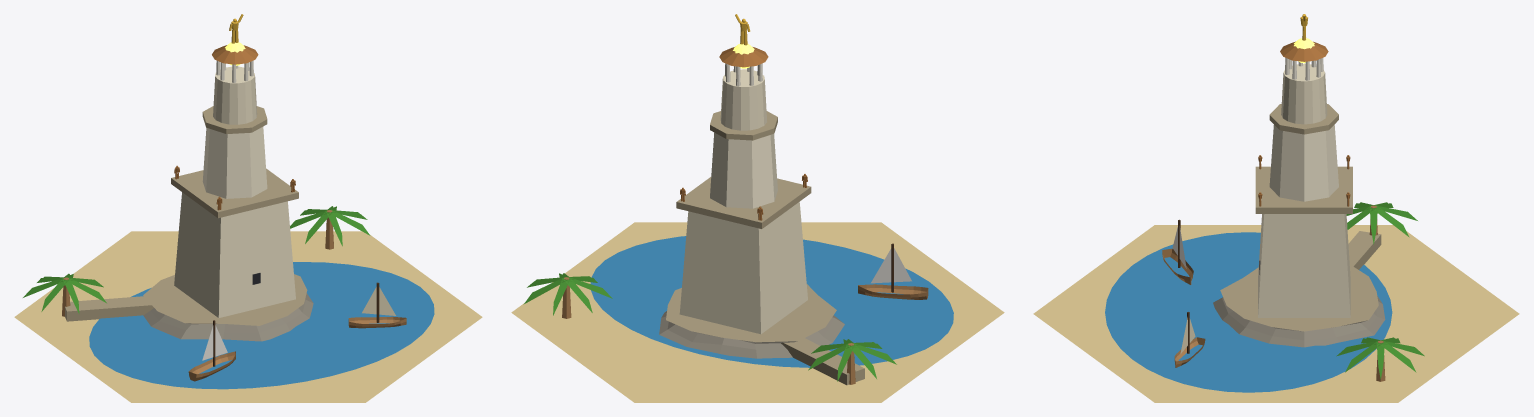
Rendered from wonder_great_lighthouse.fbx.
The picture shows the model from 3 angles, left to right: view 1: azimuth 30°, elevation 25°; view 2: azimuth 150°, elevation 25°; view 3: azimuth 270°, elevation 25°; orthographic projection. The views are drawn at different scales.
Parts seen in each view (by area): view 1: wonder_great_lighthouse; view 2: wonder_great_lighthouse; view 3: wonder_great_lighthouse.
Boxes of the visible parts, bbox=[...] form: wonder_great_lighthouse: bbox=[14, 14, 482, 402]; wonder_great_lighthouse: bbox=[511, 14, 1004, 402]; wonder_great_lighthouse: bbox=[1033, 14, 1519, 402].
Bounding box in the file's own units: 182 × 145 × 210.
